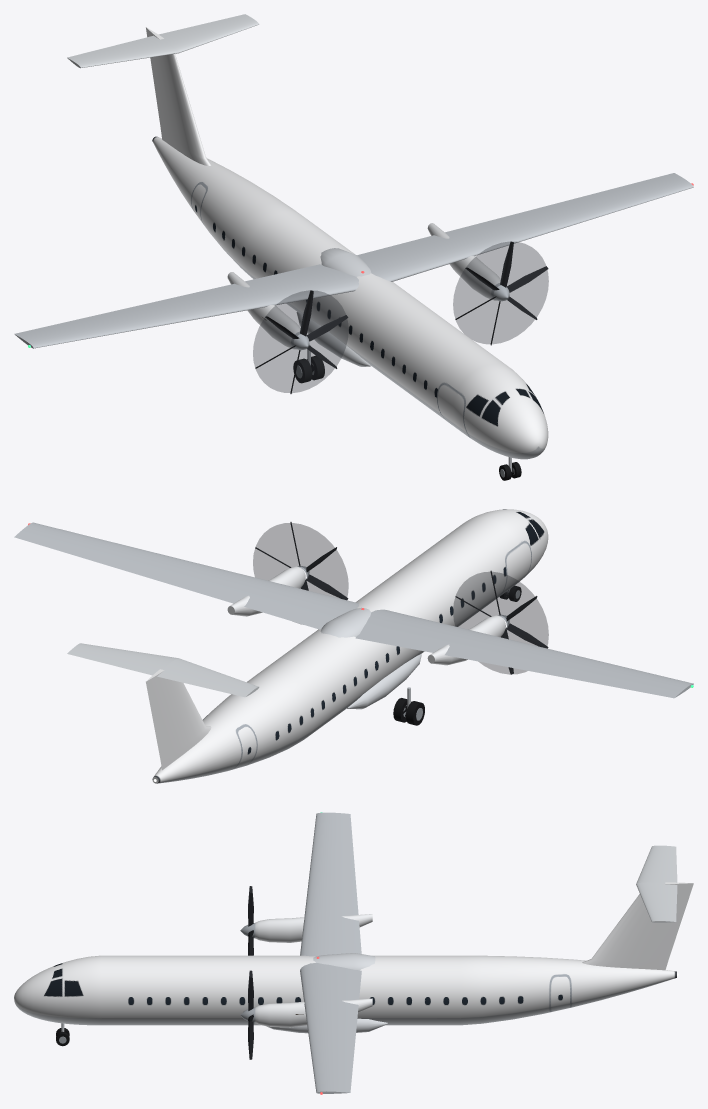
3 renders of one model, top to bottom at view 1: azimuth 30°, elevation 25°; view 2: azimuth 150°, elevation 25°; view 3: azimuth 270°, elevation 25°, orthographic. The views are drawn at different scales.
Parts seen in each view (by area): view 1: body, gear; view 2: body, gear; view 3: body.
Part boxes in pixels (x1,y1,x2,y2): body: [14, 14, 693, 459]; gear: [293, 345, 521, 480]; body: [14, 509, 693, 783]; gear: [393, 586, 521, 725]; body: [14, 812, 693, 1094].
Size of the model in its own units: 27.27 by 7.26 by 27.87.
16 materials, 1 textured.
